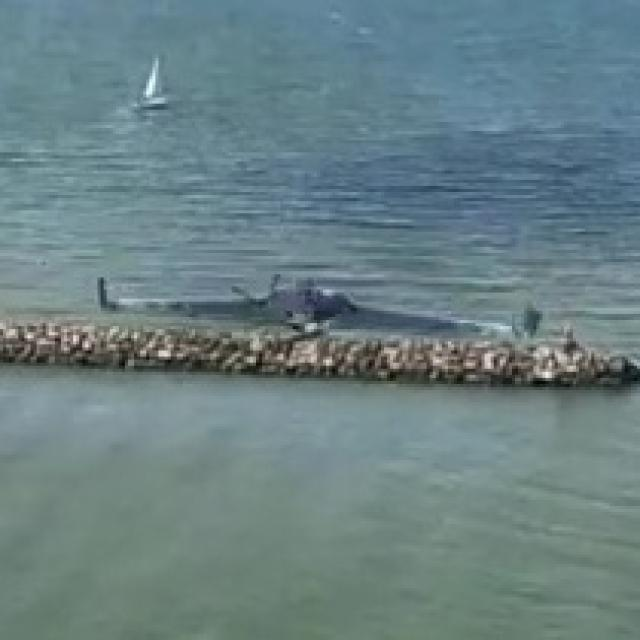iha: (98, 296, 548, 350)
